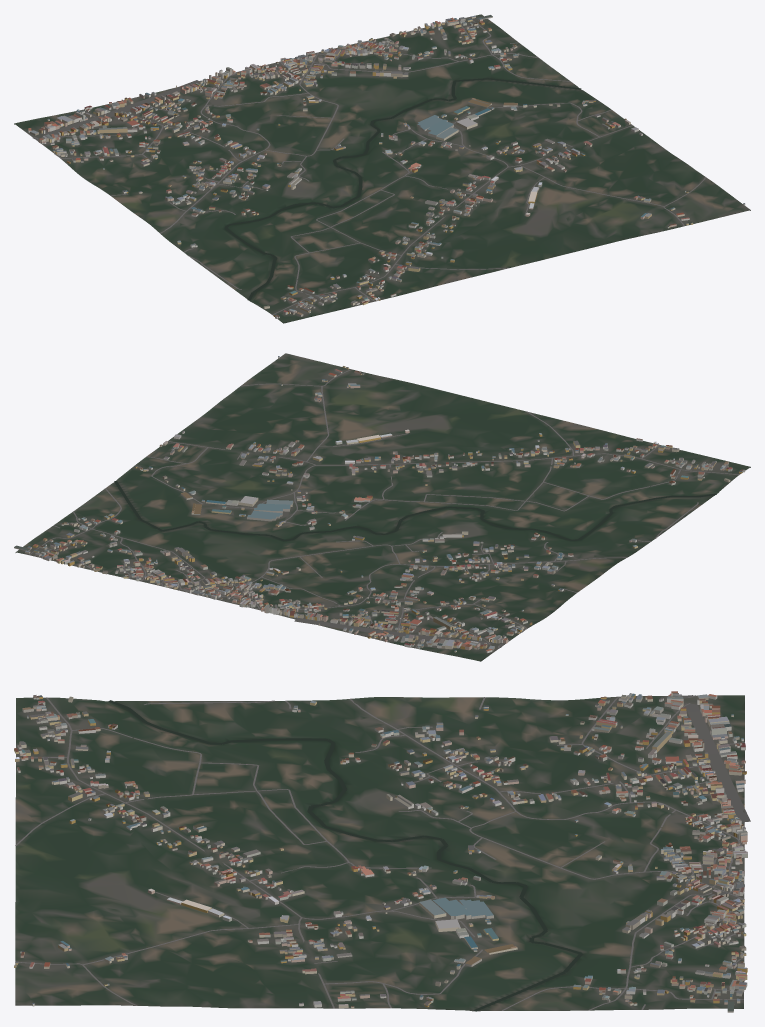
3 views of the same model, one above another, from view 1: azimuth 30°, elevation 25°; view 2: azimuth 150°, elevation 25°; view 3: azimuth 270°, elevation 25° (orthographic). The views are drawn at different scales.
Parts seen in each view (by area): view 1: ground, buildings, roads, water; view 2: ground, buildings, roads, water; view 3: ground, buildings, roads, water.
Boxes of the visible parts, box(x1,y1,x2,y2) form: ground: box(14, 14, 750, 323); buildings: box(28, 15, 745, 318); roads: box(32, 17, 706, 314); water: box(224, 78, 581, 300); ground: box(15, 353, 750, 661); buildings: box(14, 356, 745, 653); roads: box(29, 369, 739, 648); water: box(114, 481, 716, 541); ground: box(15, 695, 744, 1011); buildings: box(14, 691, 747, 1012); roads: box(15, 695, 750, 1010); water: box(108, 700, 583, 1011).
Size of the model in its own units: 1421 by 30.84 by 1417.
